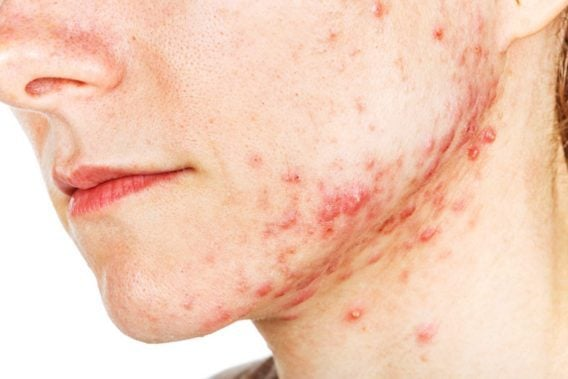jerawat: (191, 1, 526, 358)
